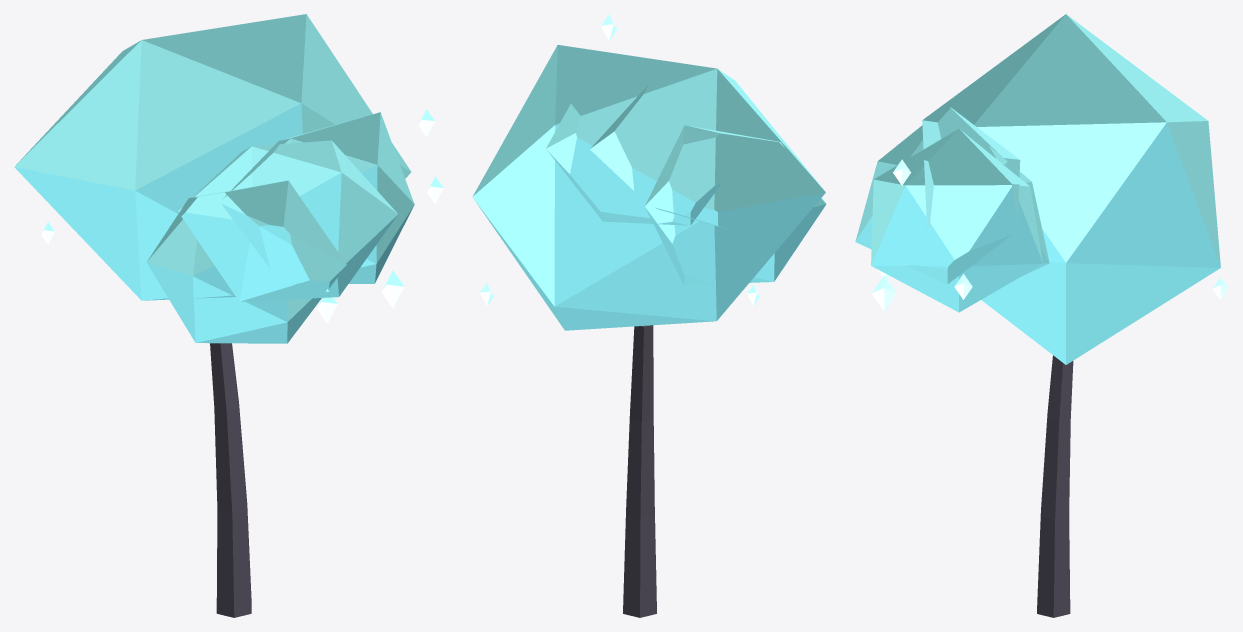
The model's file is teal_round_near.glb.
3 renders of one model, left to right at view 1: azimuth 30°, elevation 25°; view 2: azimuth 150°, elevation 25°; view 3: azimuth 270°, elevation 25°, orthographic. The views are drawn at different scales.
Visible parts, largest first — view 1: teal_round_near; view 2: teal_round_near; view 3: teal_round_near.
Part boxes in pixels (box(x1,y1,x2,y2)): teal_round_near: box(14, 14, 443, 617); teal_round_near: box(472, 14, 826, 617); teal_round_near: box(855, 14, 1228, 617).
Bounding box in the file's own units: 1.66 × 2.84 × 1.76.
